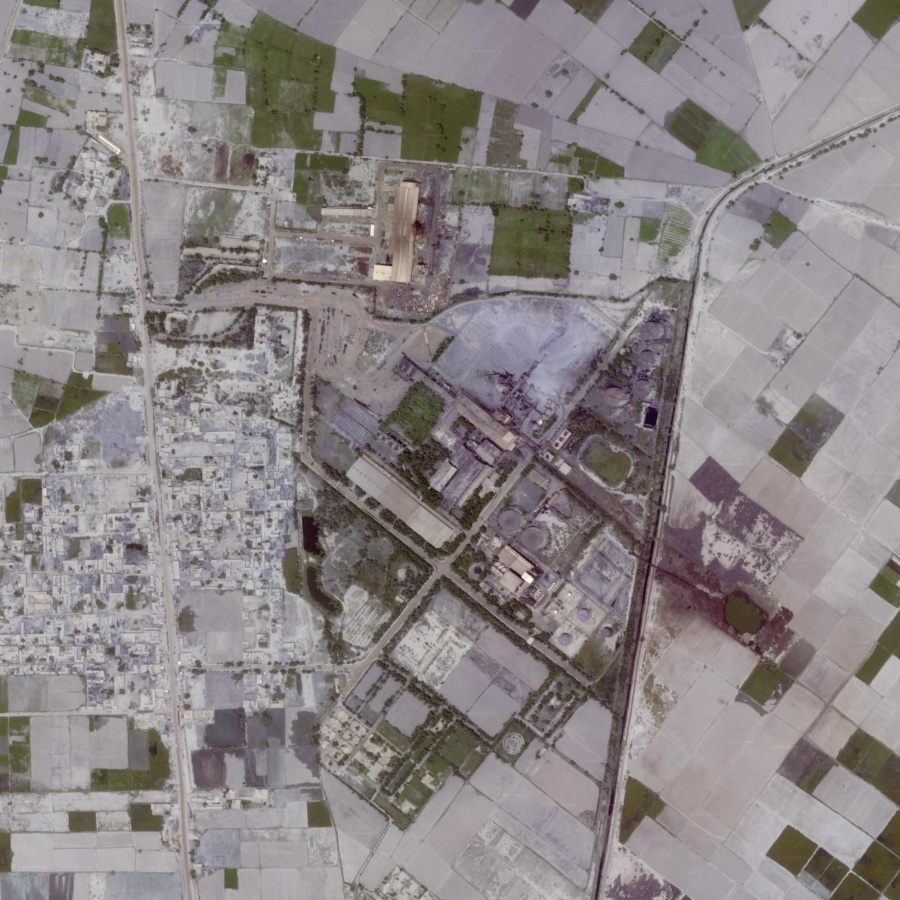PowerPlant: (444, 436, 634, 654)
